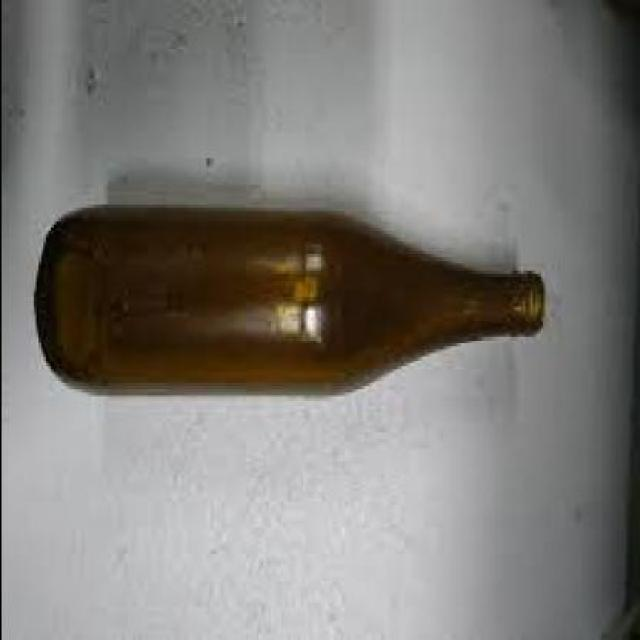GLASS: (37, 205, 546, 392)
